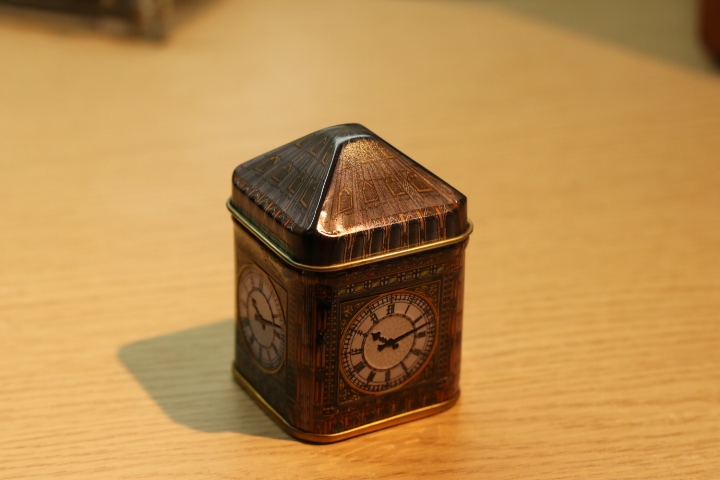Big Ben: (211, 108, 506, 458)
